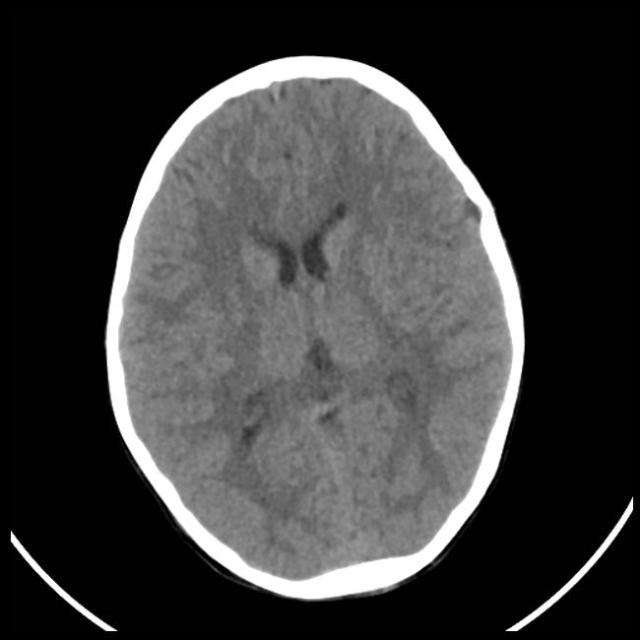lesion: (105, 60, 526, 591)
